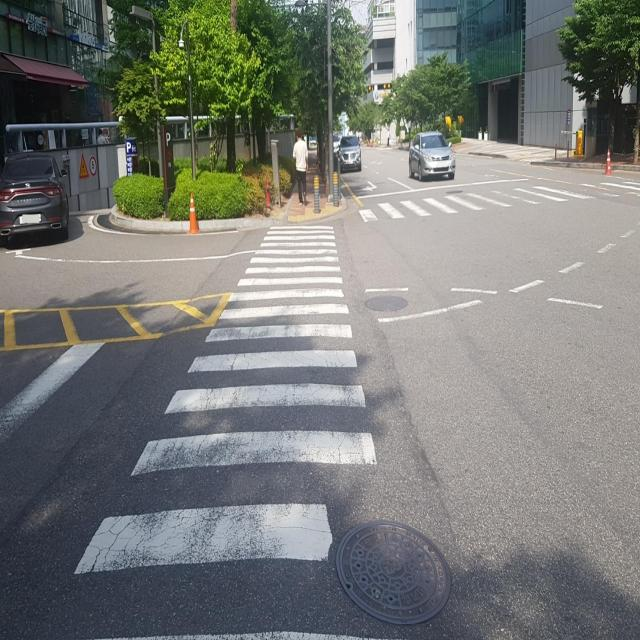횡단보도: (72, 223, 380, 580), (359, 179, 640, 222)
